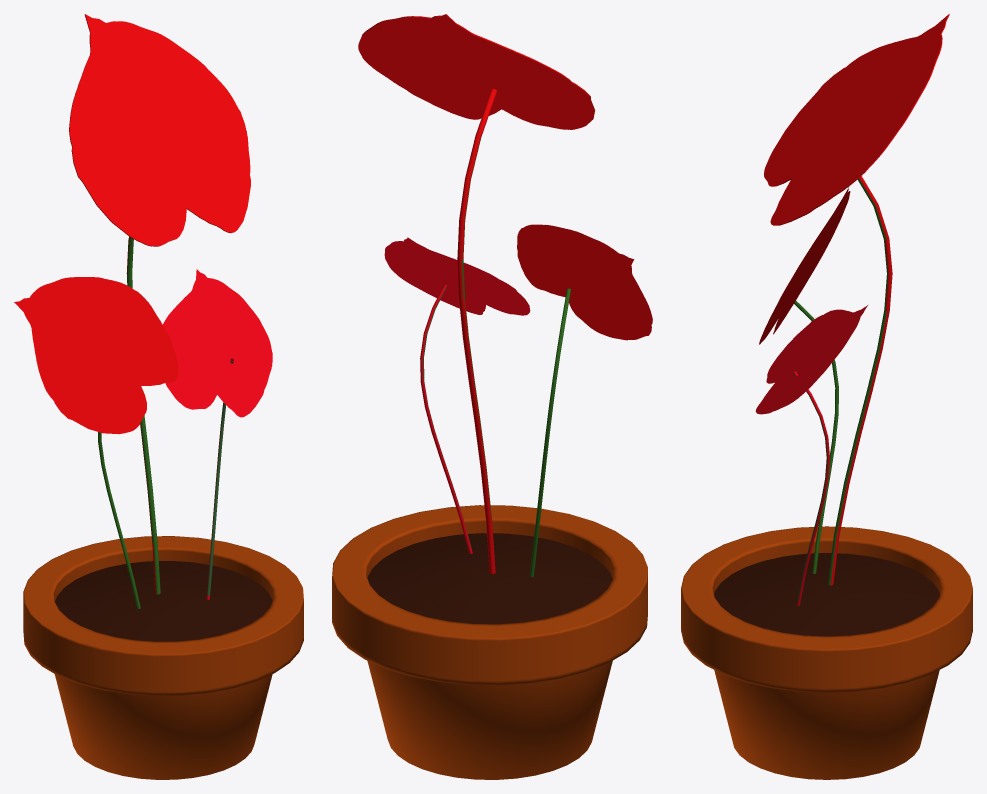
The model's file is flor.fbx.
3 views of the same model, side by side, from view 1: azimuth 30°, elevation 25°; view 2: azimuth 150°, elevation 25°; view 3: azimuth 270°, elevation 25° (orthographic). The views are drawn at different scales.
Parts seen in each view (by area): view 1: BezierCurve.002; view 2: BezierCurve.002; view 3: BezierCurve.002.
Boxes of the visible parts, bbox=[...] form: BezierCurve.002: bbox=[14, 14, 303, 779]; BezierCurve.002: bbox=[332, 14, 652, 779]; BezierCurve.002: bbox=[681, 14, 972, 779].
Bounding box in the file's own units: 206 × 521 × 192.
